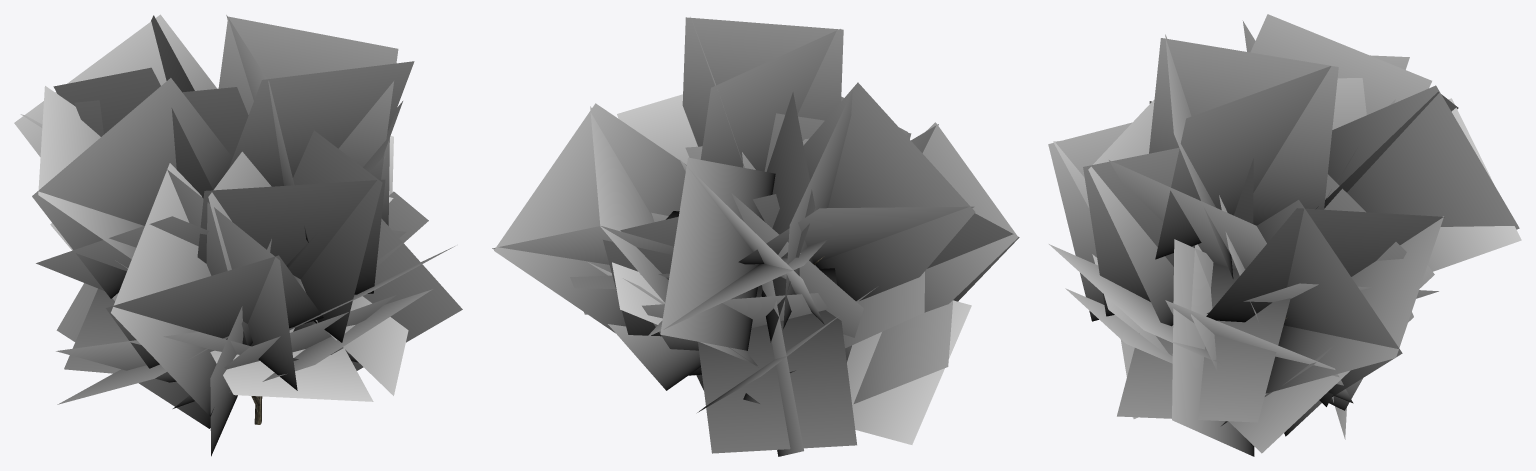
Rendered from tree12.fbx.
3 views of the same model, side by side, from view 1: azimuth 30°, elevation 25°; view 2: azimuth 150°, elevation 25°; view 3: azimuth 270°, elevation 25° (orthographic). The views are drawn at different scales.
Parts seen in each view (by area): view 1: tree12_leafs, tree12_leafs_flip; view 2: tree12_leafs, tree12_leafs_flip; view 3: tree12_leafs, tree12_leafs_flip.
Boxes of the visible parts, bbox=[...] form: tree12_leafs: bbox=[14, 14, 462, 456]; tree12_leafs_flip: bbox=[22, 17, 453, 454]; tree12_leafs: bbox=[492, 17, 1019, 456]; tree12_leafs_flip: bbox=[496, 18, 1017, 455]; tree12_leafs: bbox=[1048, 14, 1521, 456]; tree12_leafs_flip: bbox=[1050, 17, 1519, 454].
Bounding box in the file's own units: 8.1 × 7.13 × 7.66.
